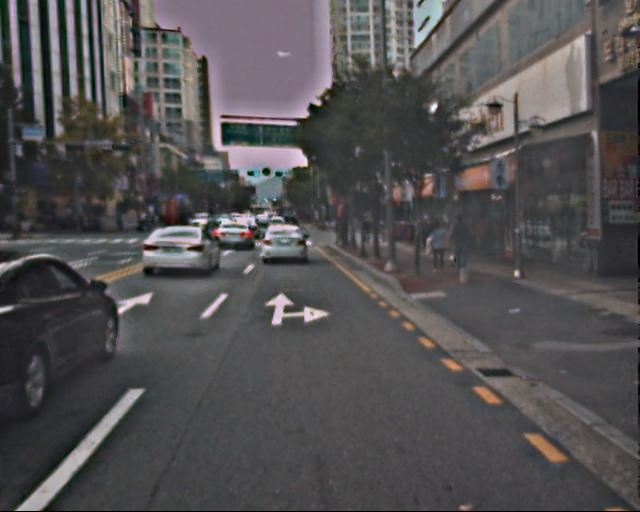person: (448, 214, 473, 275), (426, 219, 450, 277)
